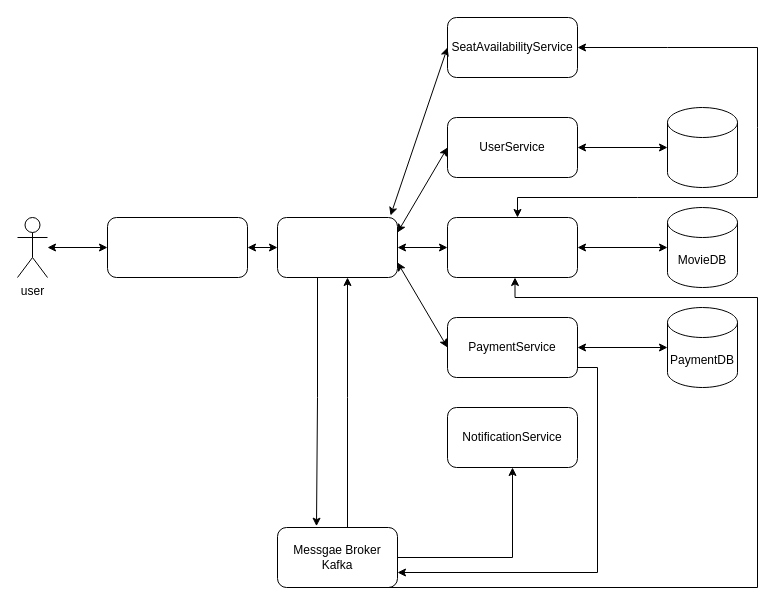
Image size: 784x613. Some labels were removed from this diagram. Here are the shapes that lost their labels. From the top down, the centre of each, then its label:
At (x=702, y=147): "UserDB".
At (x=177, y=247): "API Gateway".
At (x=337, y=247): "BookingService".
At (x=512, y=247): "MovieService".
